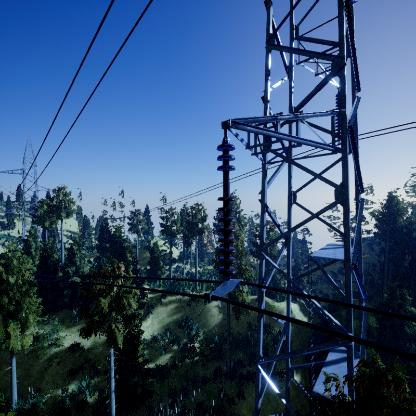insulator: (213, 140, 237, 281)
